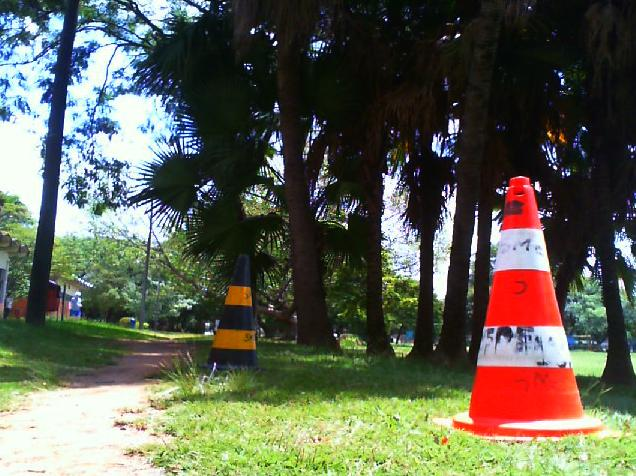0 cone: (431, 176, 630, 439), (198, 254, 266, 373)
